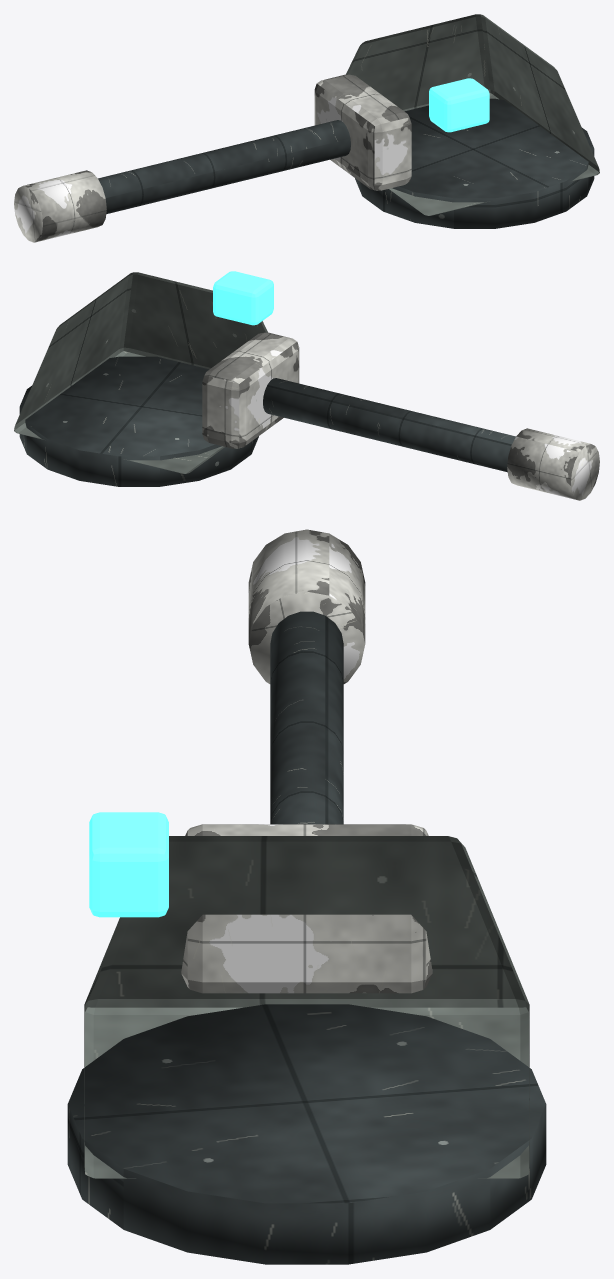
The model's file is anti_tank_turret_turret.glb.
The picture shows the model from 3 angles, top to bottom: view 1: azimuth 30°, elevation 25°; view 2: azimuth 150°, elevation 25°; view 3: azimuth 270°, elevation 25°; orthographic projection. The views are drawn at different scales.
Parts seen in each view (by area): view 1: anti_tank_turret_turret_armor_dark, anti_tank_turret_turret_factory_metal, anti_tank_turret_turret_team_primary, anti_tank_turret_turret_team_accent, anti_tank_turret_turret_glass_emissive; view 2: anti_tank_turret_turret_armor_dark, anti_tank_turret_turret_factory_metal, anti_tank_turret_turret_team_primary, anti_tank_turret_turret_team_accent, anti_tank_turret_turret_glass_emissive; view 3: anti_tank_turret_turret_armor_dark, anti_tank_turret_turret_factory_metal, anti_tank_turret_turret_team_primary, anti_tank_turret_turret_team_accent, anti_tank_turret_turret_glass_emissive.
Boxes of the visible parts, x1,y1,x2,y2 form: anti_tank_turret_turret_armor_dark: (98, 98, 594, 228); anti_tank_turret_turret_factory_metal: (346, 14, 599, 215); anti_tank_turret_turret_team_primary: (314, 74, 411, 190); anti_tank_turret_turret_team_accent: (14, 170, 106, 242); anti_tank_turret_turret_glass_emissive: (429, 78, 489, 132); anti_tank_turret_turret_armor_dark: (19, 356, 515, 486); anti_tank_turret_turret_factory_metal: (14, 272, 267, 473); anti_tank_turret_turret_team_primary: (202, 332, 299, 448); anti_tank_turret_turret_team_accent: (507, 428, 599, 500); anti_tank_turret_turret_glass_emissive: (213, 271, 273, 325); anti_tank_turret_turret_armor_dark: (67, 611, 546, 1264); anti_tank_turret_turret_factory_metal: (84, 836, 529, 1178); anti_tank_turret_turret_team_primary: (181, 824, 432, 993); anti_tank_turret_turret_team_accent: (248, 529, 365, 683); anti_tank_turret_turret_glass_emissive: (89, 812, 168, 917).
Size of the model in its own units: 3.82 by 0.9213 by 1.44.
Materials: 5 (4 with a texture image).
